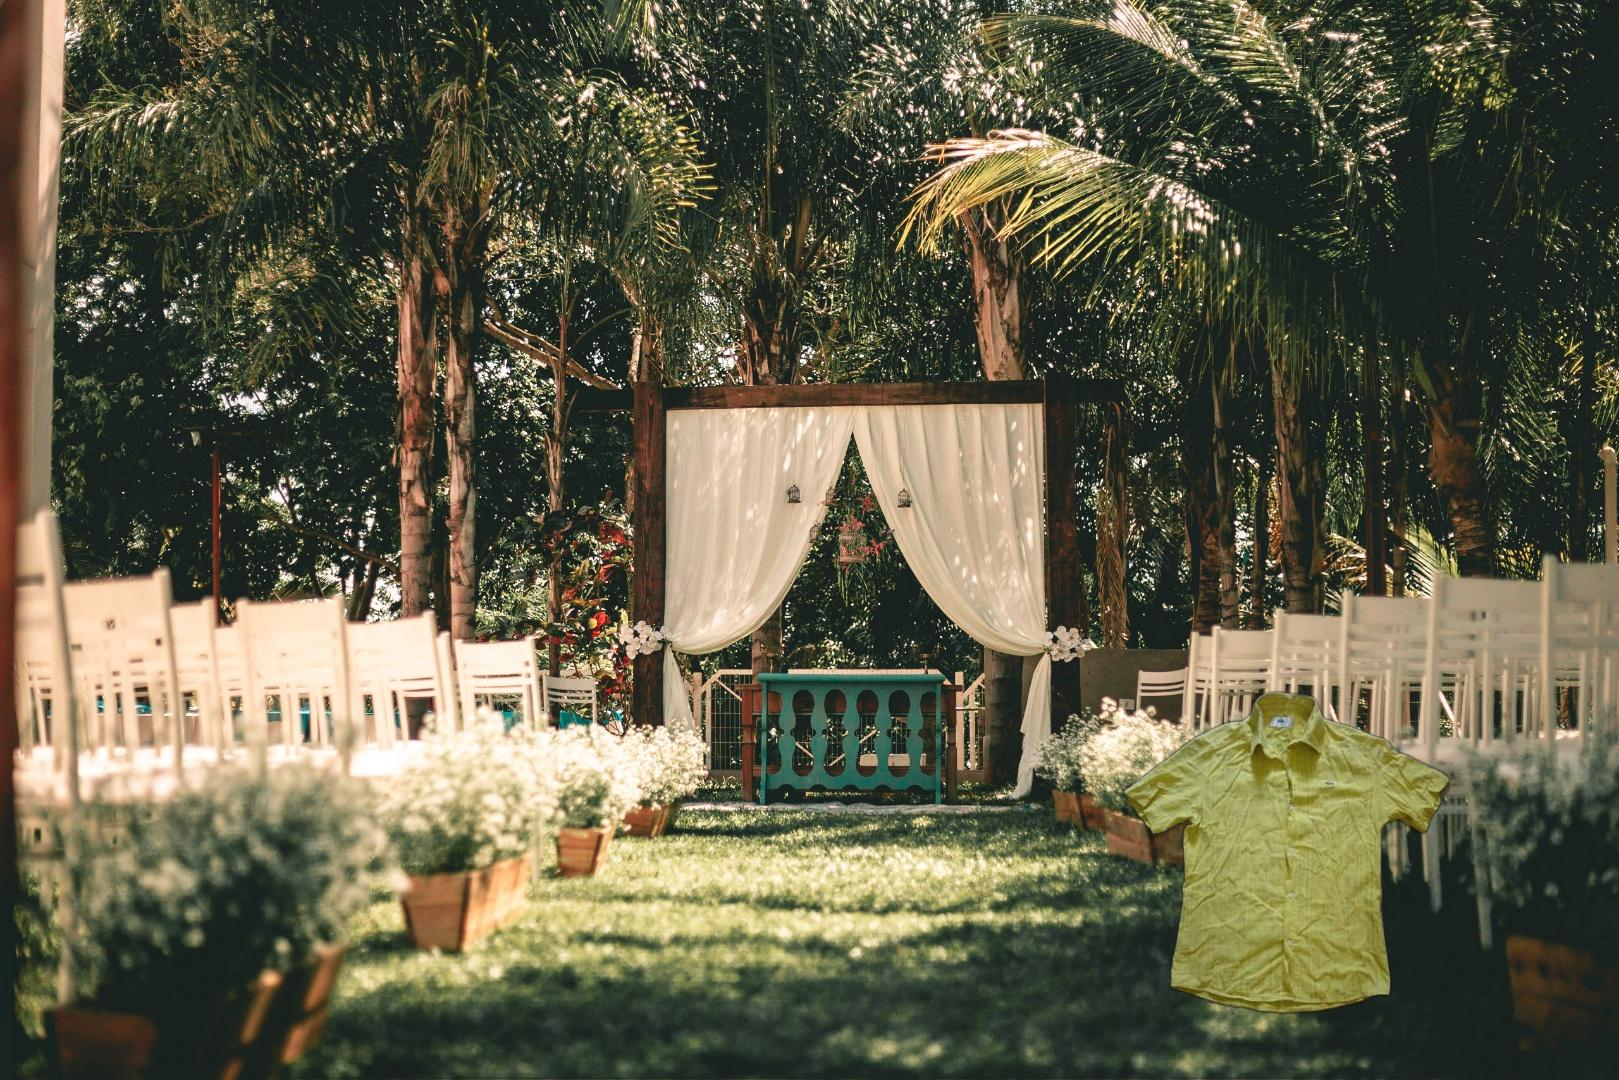clothes: (1120, 686, 1454, 1019)
